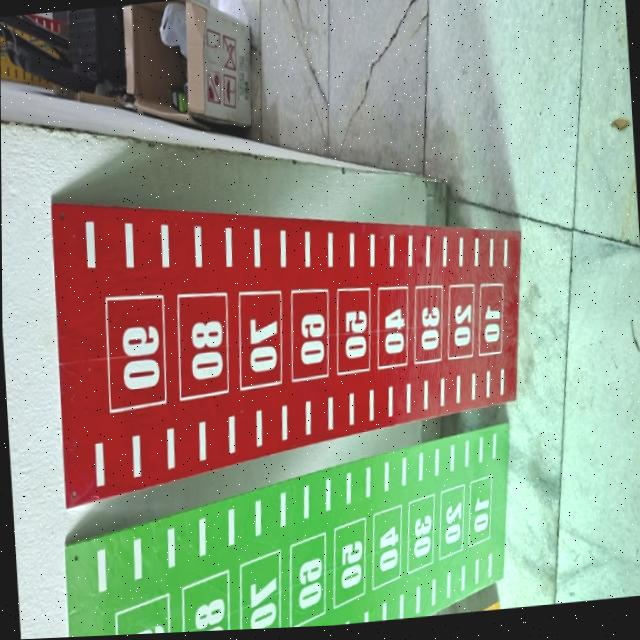water-meter: (36, 131, 540, 534)
